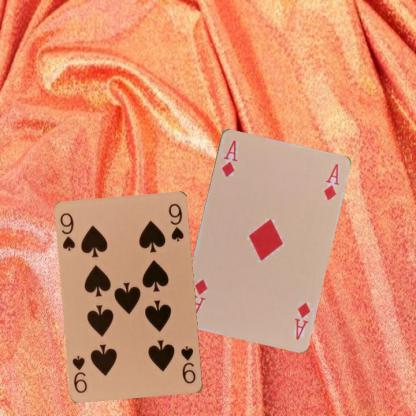9s: (178, 344, 198, 385), (58, 210, 77, 252)
Ad: (218, 137, 238, 179), (292, 299, 311, 341)
